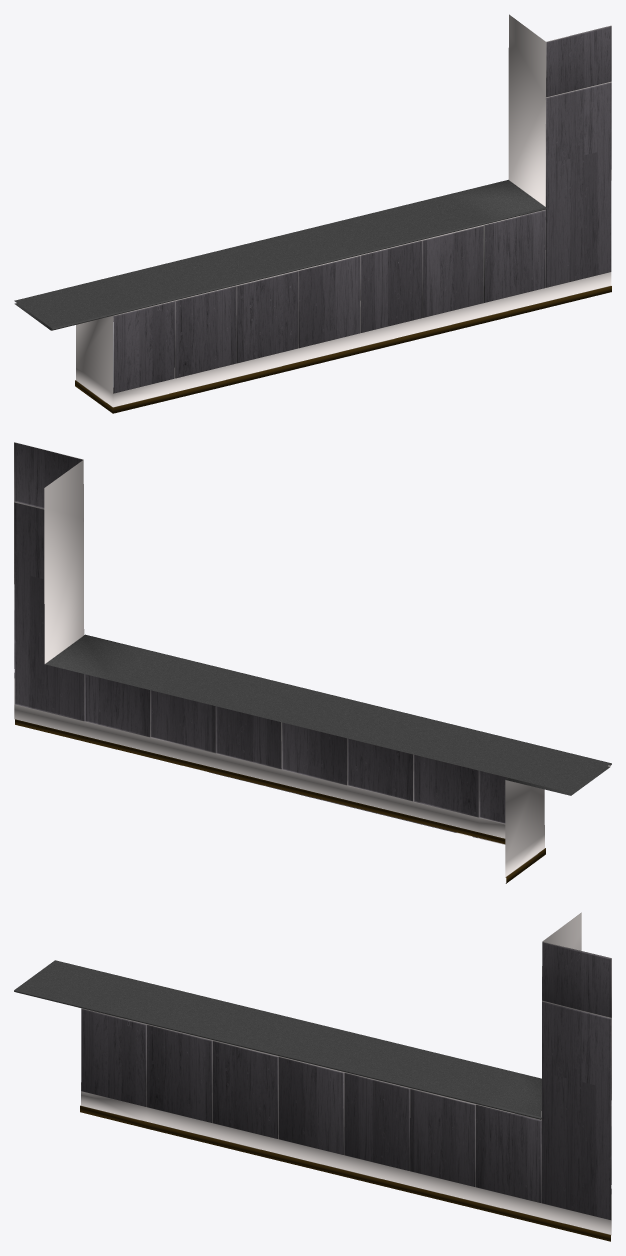
Rendered from DarkTableNoHandles.fbx.
3 views of the same model, one above another, from view 1: azimuth 30°, elevation 25°; view 2: azimuth 150°, elevation 25°; view 3: azimuth 330°, elevation 25° (orthographic). The views are drawn at different scales.
Parts seen in each view (by area): view 1: Dark Table; view 2: Dark Table; view 3: Dark Table.
Boxes of the visible parts, left/top/right/bottom form: Dark Table: left=14, top=14, right=611, bottom=413; Dark Table: left=14, top=442, right=611, bottom=883; Dark Table: left=14, top=912, right=611, bottom=1241.
Bounding box in the file's own units: 5.35 × 2.43 × 0.639.
